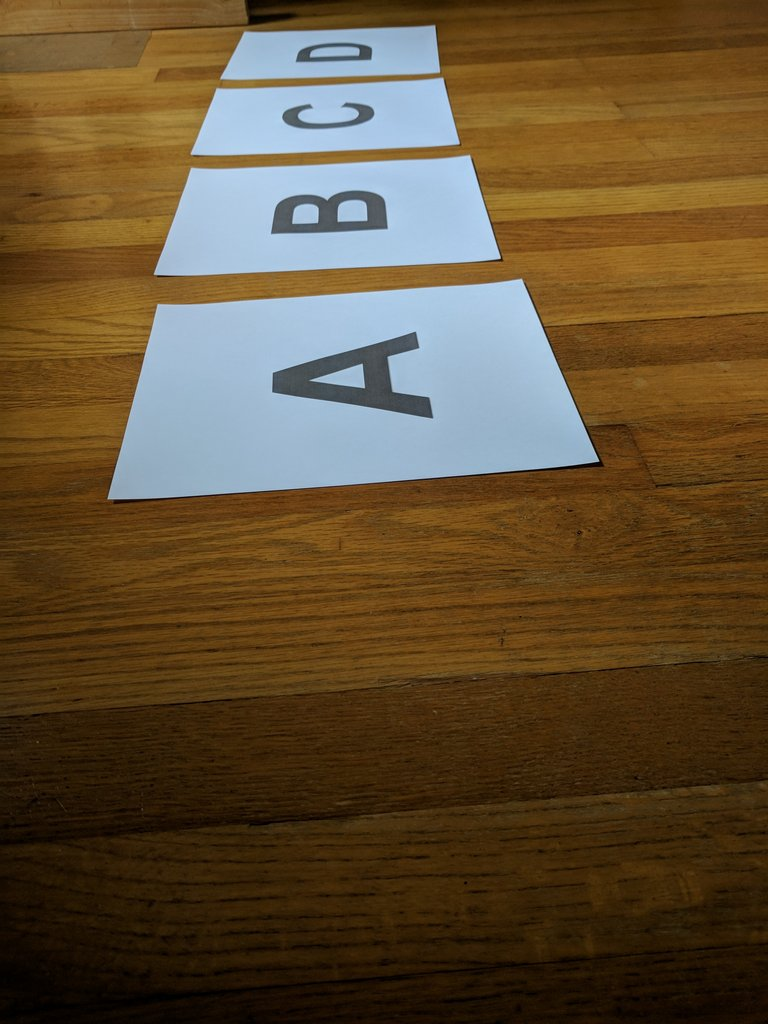home: (278, 102, 379, 131)
